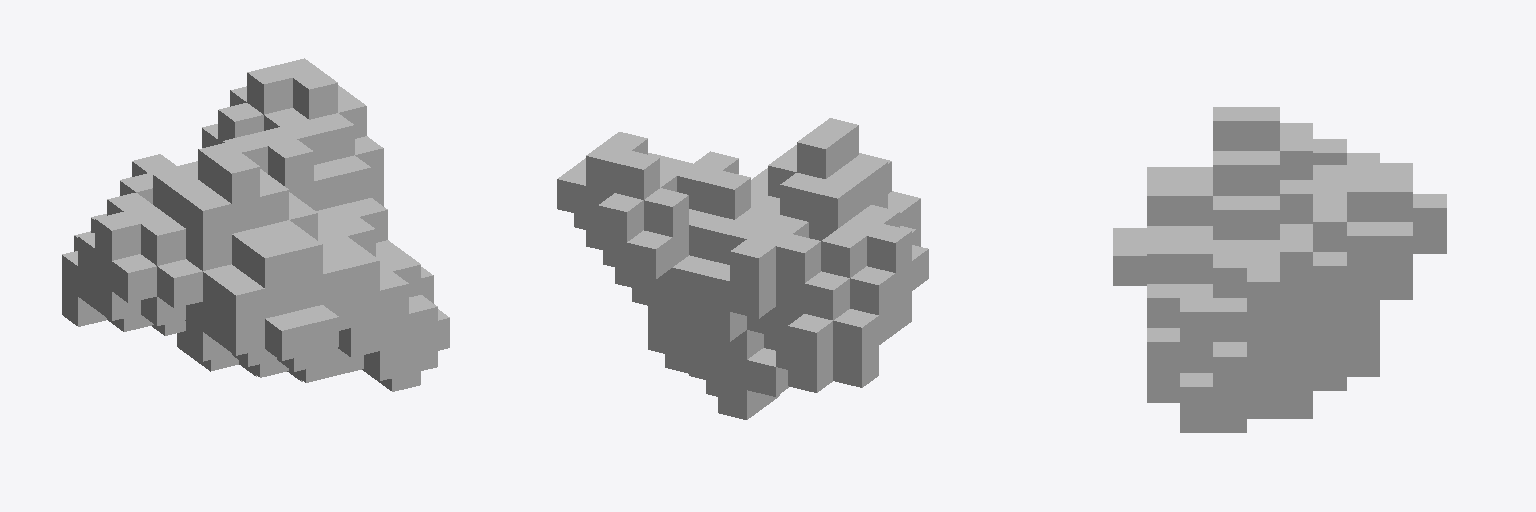
The model's file is a4empty.obj.
The picture shows the model from 3 angles: view 1: azimuth 30°, elevation 25°; view 2: azimuth 150°, elevation 25°; view 3: azimuth 270°, elevation 25°; orthographic projection.
Visible parts, largest first — view 1: object 1; view 2: object 1; view 3: object 1.
Part boxes in pixels (x1,y1,x2,y2): object 1: (62, 58, 449, 391); object 1: (557, 118, 928, 419); object 1: (1113, 107, 1446, 432).
Bounding box in the file's own units: 1 × 0.8 × 1.